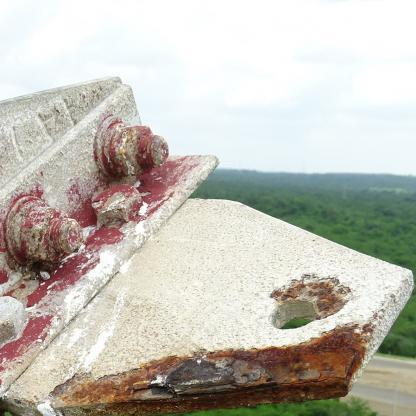Grado3: (69, 349, 383, 409), (267, 257, 362, 331)
